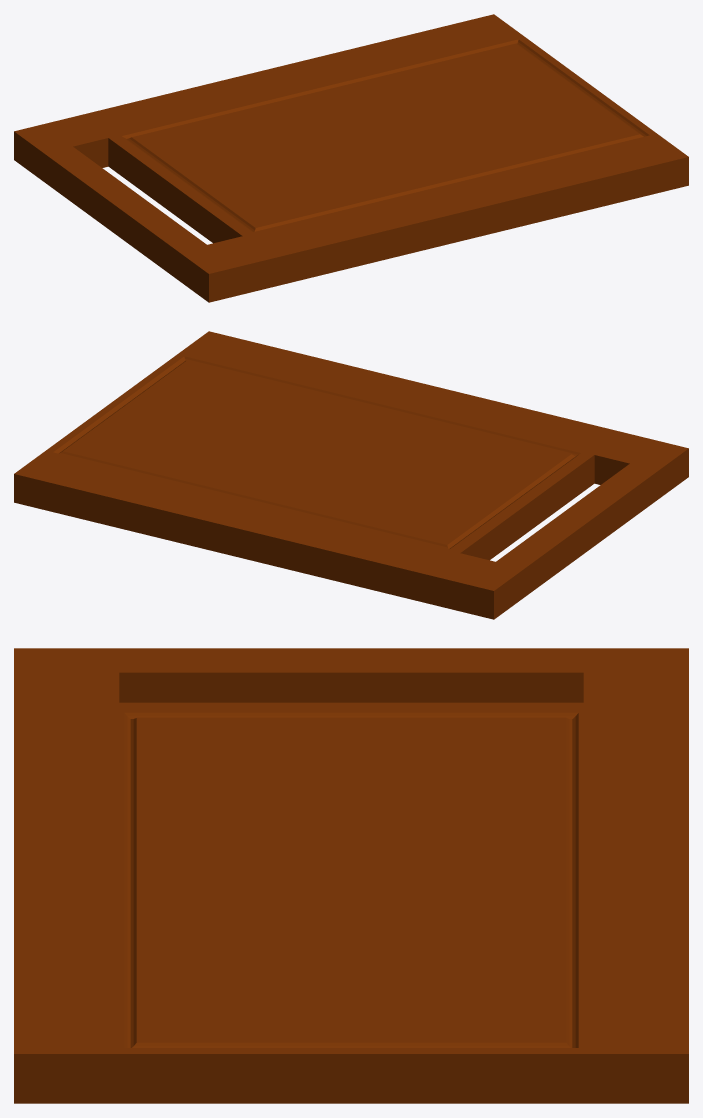
The model's file is CuttingBoard.fbx.
3 views of the same model, one above another, from view 1: azimuth 30°, elevation 25°; view 2: azimuth 150°, elevation 25°; view 3: azimuth 270°, elevation 25° (orthographic). The views are drawn at different scales.
Parts seen in each view (by area): view 1: Cube.028; view 2: Cube.028; view 3: Cube.028.
Boxes of the visible parts, box(x1,y1,x2,y2) form: Cube.028: box(14, 14, 688, 302); Cube.028: box(14, 331, 688, 619); Cube.028: box(14, 648, 688, 1103).
Bounding box in the file's own units: 108 × 6.14 × 75.61.
